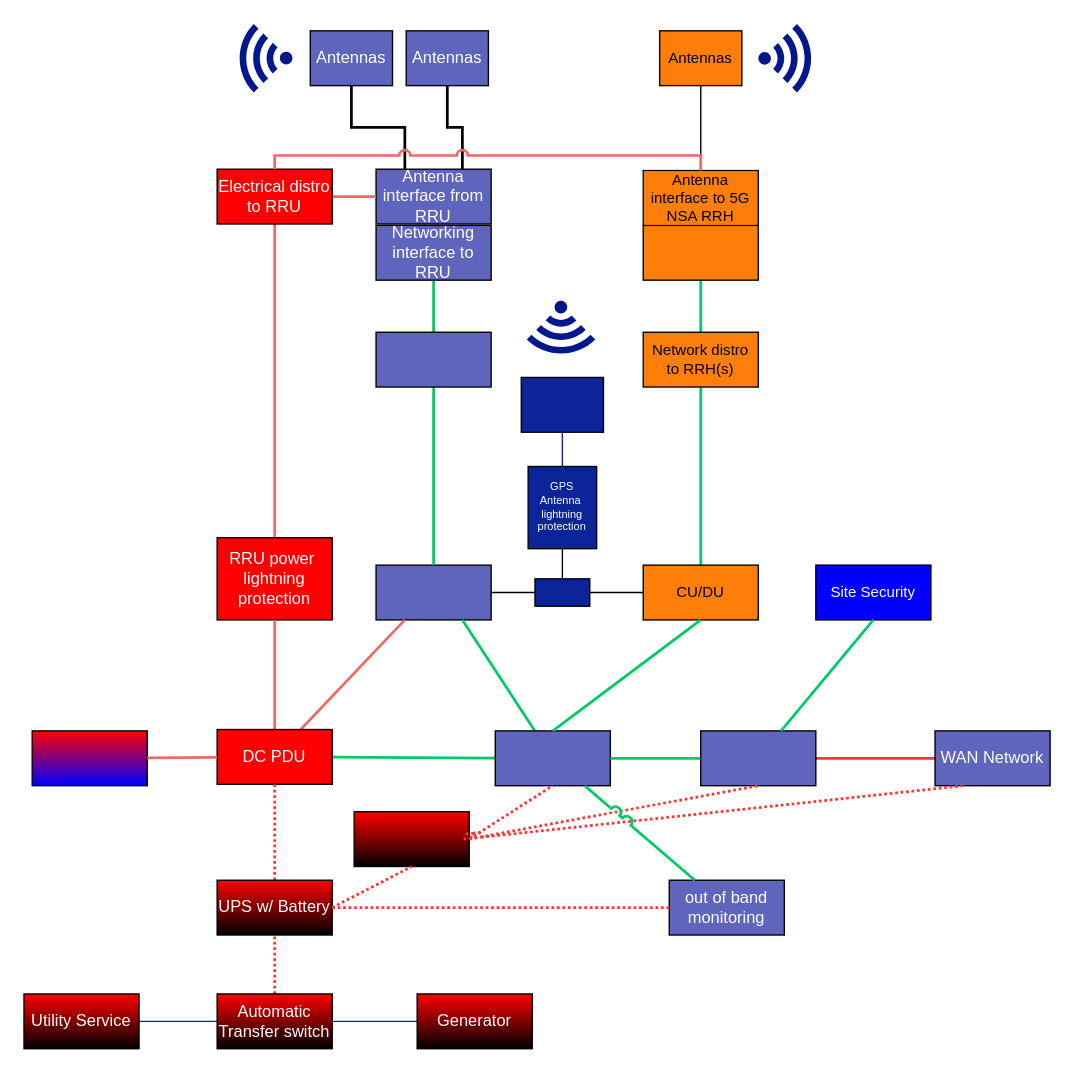
Some shapes in this 1074 by 1073 pixel diagram are drawn without their labels. Each missing label, with the centre of its shape:
AC PDU: [411,838]
Cooling and Heating: [89,758]
EnodeB: [433,592]
GPS: [562,591]
GPS Antenna: [561,404]
LAN Network: [552,758]
Network distro to RRU(s): [433,359]
Network interface to 5G NSA RRH: [700,252]
Network security: [757,758]
